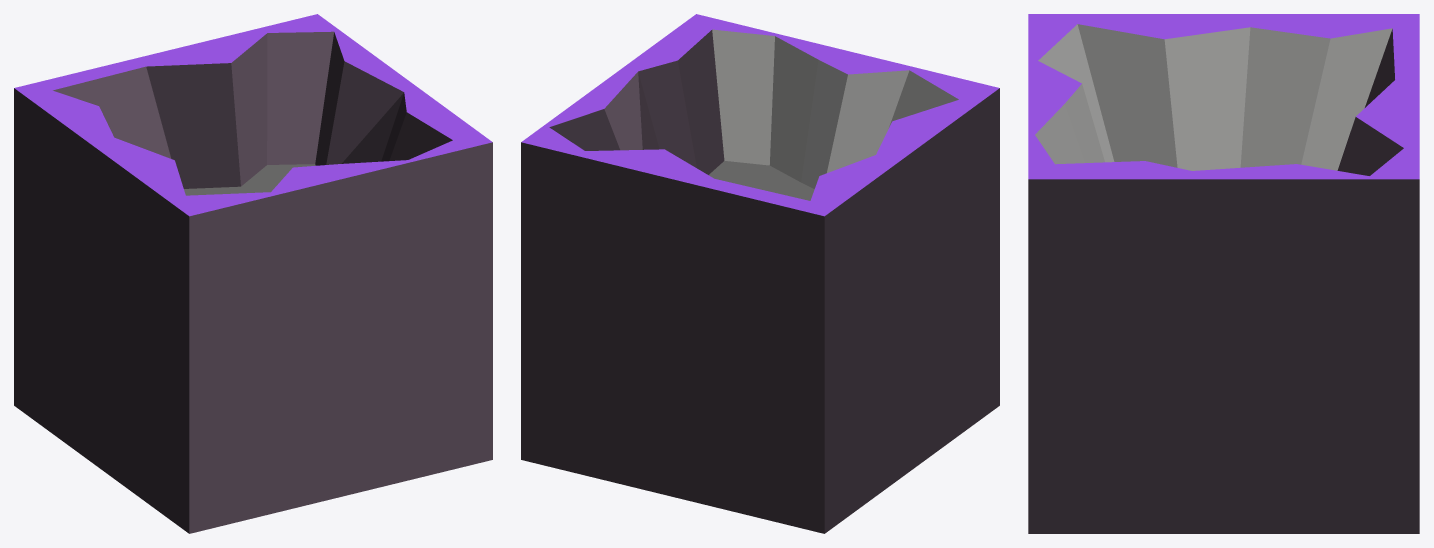
The model's file is tile_obstacle_toxic_pit_empty.FBX.
3 views of the same model, side by side, from view 1: azimuth 30°, elevation 25°; view 2: azimuth 150°, elevation 25°; view 3: azimuth 270°, elevation 25° (orthographic). The views are drawn at different scales.
Visible parts, largest first — view 1: tile_obstacle_toxic_pit_empty; view 2: tile_obstacle_toxic_pit_empty; view 3: tile_obstacle_toxic_pit_empty.
Boxes of the visible parts, x1,y1,x2,y2 form: tile_obstacle_toxic_pit_empty: [14, 14, 492, 533]; tile_obstacle_toxic_pit_empty: [521, 14, 999, 533]; tile_obstacle_toxic_pit_empty: [1028, 14, 1419, 533].
Bounding box in the file's own units: 39.37 × 39.37 × 39.38.
